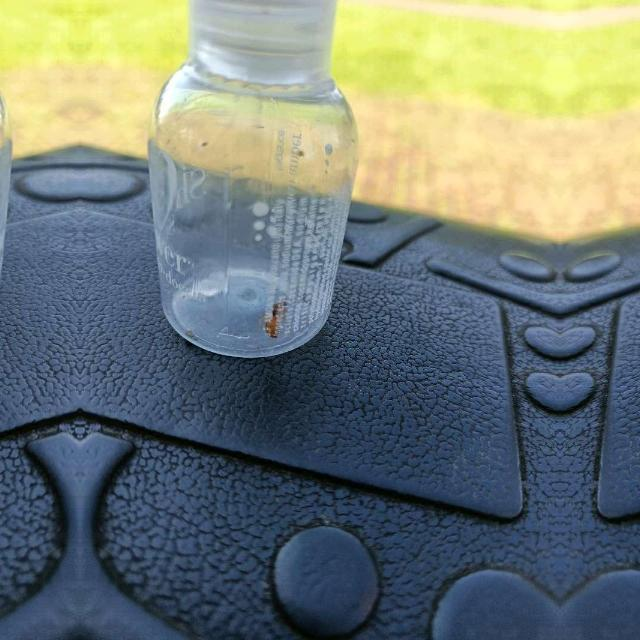Lasius: (256, 292, 294, 344)
